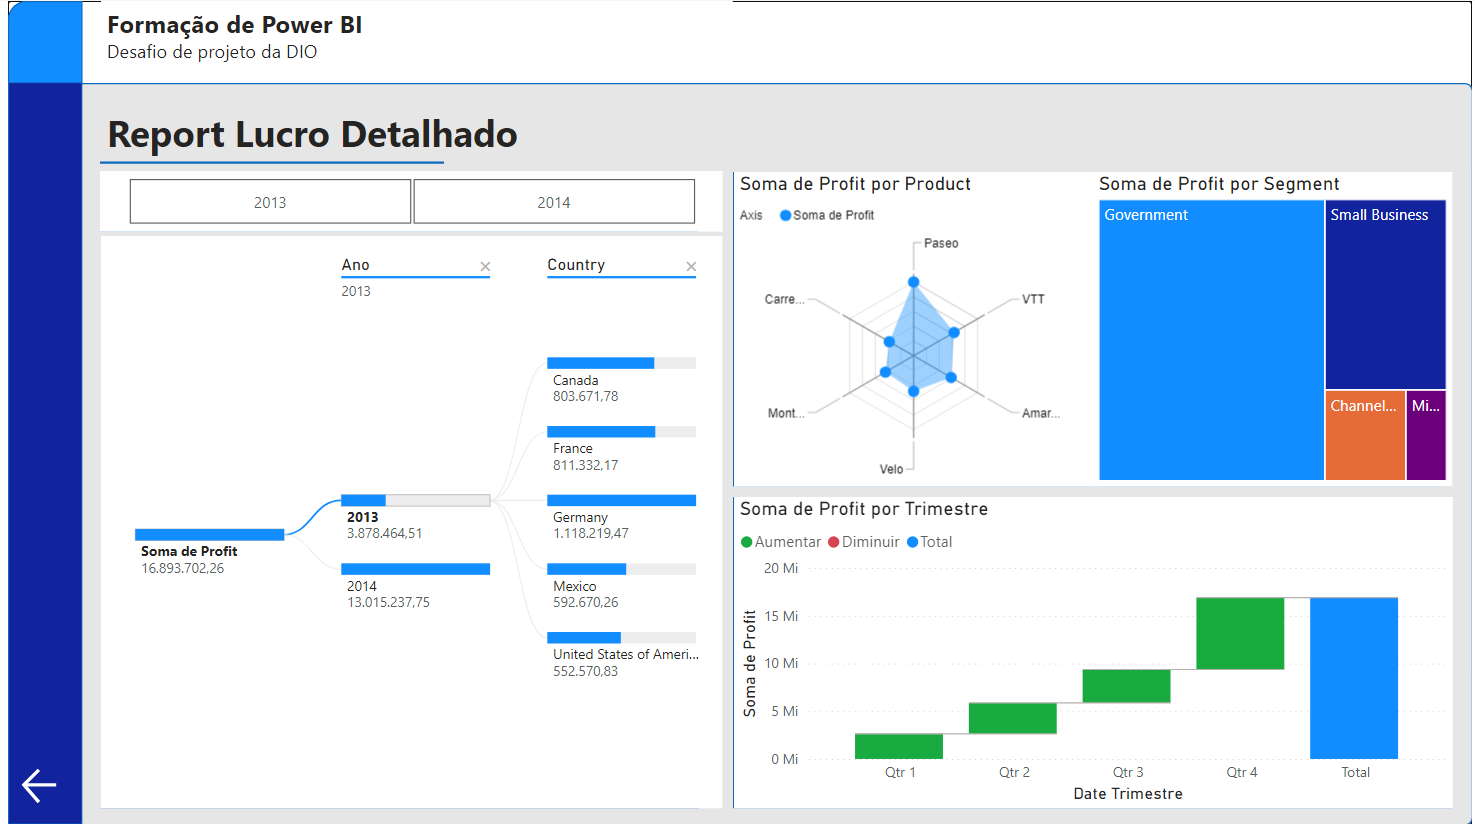

What the dashboard file says about the page in this screenshot:
{"tool":"powerbi","page":{"name":"Página 2","canvas":[1280,720],"ordinal":1},"visuals":[{"type":"group","id":"g1","title":"Grupo 1","box":[0,0,1280.4,720.9],"z":0},{"type":"shape","box":[0,71.9,1280,648.6],"z":0,"group":"g1"},{"type":"shape","box":[0,0,65.2,719.8],"z":1000,"group":"g1"},{"type":"textbox","box":[81.1,0,552.2,71.4],"z":1000},{"type":"shape","box":[0,0,65.2,72],"z":2000,"group":"g1"},{"type":"shape","box":[80.7,127.7,300.6,27.5],"z":2000},{"type":"textbox","box":[81.6,87.8,466.4,54.1],"z":3000},{"type":"shape","box":[81.5,205.3,522.6,500],"z":4000},{"type":"shape","box":[633.1,149.8,627.8,274.9],"z":5000},{"type":"shape","box":[633.6,433.2,627.7,272.1],"z":6000},{"type":"actionButton","box":[7.7,665.9,47,40.2],"z":7000},{"type":"shape","box":[80.7,149.8,522.3,52.3],"z":8000},{"type":"decompositionTreeVisual","fields":{"Analyze":["Sum(financials.Profit)"],"ExplainBy":["financials.Date.Variation.Hierarquia de datas.Ano","financials.Country"]},"box":[81.6,205.7,542.7,500.1],"z":9000},{"type":"RadarChart1446119667547","fields":{"Category":["financials.Product"],"Y":["Sum(financials.Profit)"]},"box":[634,149.8,313.9,274.9],"z":10000},{"type":"waterfallChart","fields":{"Category":["financials.Date.Variation.Hierarquia de datas.Trimestre"],"Y":["Sum(financials.Profit)"]},"box":[634,433.6,627.8,272.2],"z":11000},{"type":"slicer","fields":{"Values":["financials.Date.Variation.Hierarquia de datas.Ano"]},"box":[80.7,149,543.5,53.2],"z":12000},{"type":"treemap","fields":{"Values":["Sum(financials.Profit)"],"Group":["financials.Segment"]},"box":[947.9,149.8,313.9,274.9],"z":13000}]}

Visuals, with their boxes on the page's 1280x720 design canvas (x1, y1, x2, y2). These are canvas units, not pixel positions in the 1475x824 screenshot, which may show the page scaled, cropped or inside an application window:
"Grupo 1" group: x1=0 y1=0 x2=1280 y2=721
shape: x1=0 y1=72 x2=1280 y2=720
shape: x1=0 y1=0 x2=65 y2=720
textbox: x1=81 y1=0 x2=633 y2=71
shape: x1=0 y1=0 x2=65 y2=72
shape: x1=81 y1=128 x2=381 y2=155
textbox: x1=82 y1=88 x2=548 y2=142
shape: x1=82 y1=205 x2=604 y2=705
shape: x1=633 y1=150 x2=1261 y2=425
shape: x1=634 y1=433 x2=1261 y2=705
actionButton: x1=8 y1=666 x2=55 y2=706
shape: x1=81 y1=150 x2=603 y2=202
decompositionTreeVisual - Sum(financials.Profit) x financials.Date.Variation.Hierarquia de datas.Ano: x1=82 y1=206 x2=624 y2=706
RadarChart1446119667547 - financials.Product x Sum(financials.Profit): x1=634 y1=150 x2=948 y2=425
waterfallChart - financials.Date.Variation.Hierarquia de datas.Trimestre x Sum(financials.Profit): x1=634 y1=434 x2=1262 y2=706
slicer - financials.Date.Variation.Hierarquia de datas.Ano: x1=81 y1=149 x2=624 y2=202
treemap - Sum(financials.Profit) x financials.Segment: x1=948 y1=150 x2=1262 y2=425
